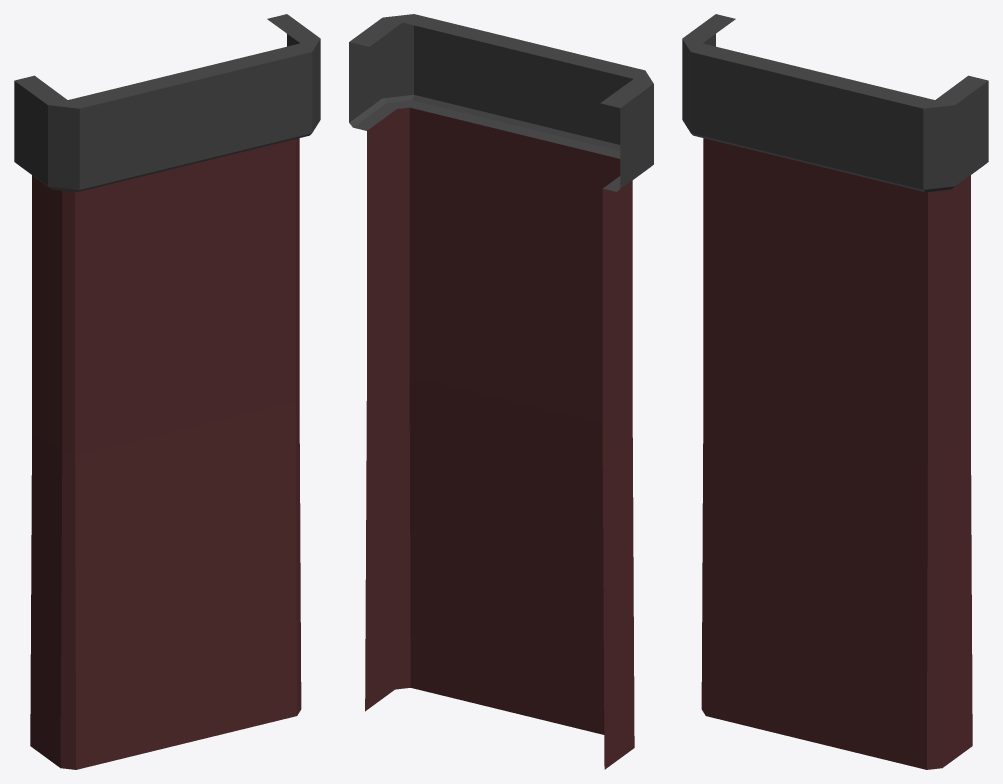
Rendered from Y_ExWallTop.fbx.
The picture shows the model from 3 angles, left to right: view 1: azimuth 30°, elevation 25°; view 2: azimuth 150°, elevation 25°; view 3: azimuth 330°, elevation 25°; orthographic projection.
Visible parts, largest first — view 1: P_Doorway.101; view 2: P_Doorway.101; view 3: P_Doorway.101.
Boxes of the visible parts, bbox=[...] form: P_Doorway.101: bbox=[14, 14, 320, 769]; P_Doorway.101: bbox=[349, 14, 653, 769]; P_Doorway.101: bbox=[682, 14, 988, 769].
Bounding box in the file's own units: 469 × 1100 × 135.
